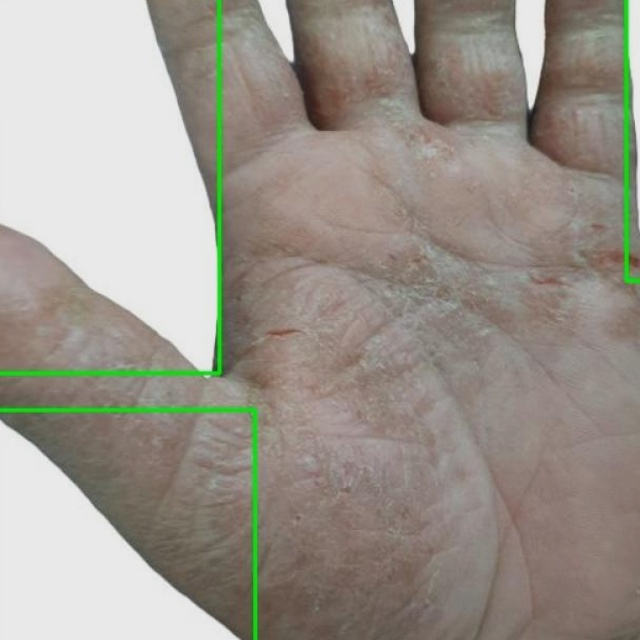Contact Dermatitis: (0, 0, 219, 373), (0, 409, 255, 639)
